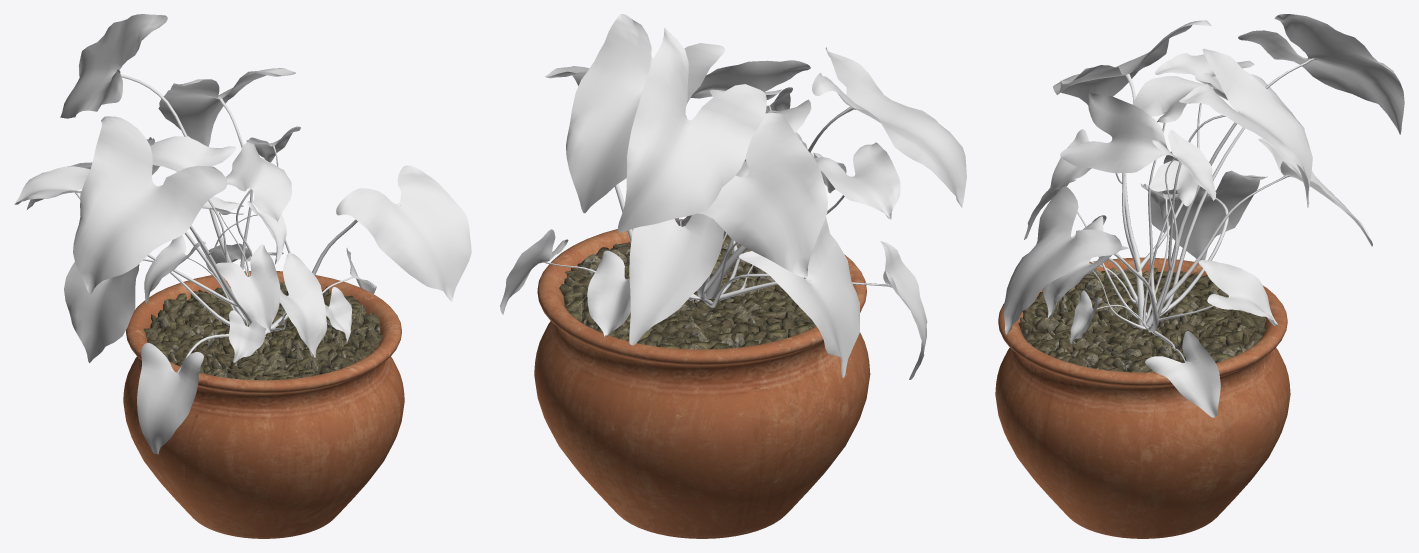
Rendered from potted_plant_02.fbx.
3 renders of one model, left to right at view 1: azimuth 30°, elevation 25°; view 2: azimuth 150°, elevation 25°; view 3: azimuth 270°, elevation 25°, orthographic. The views are drawn at different scales.
Visible parts, largest first — view 1: potted_plant_02_leaves.001, potted_plant_02_pot.001, potted_plant_02_dirt.001; view 2: potted_plant_02_leaves.001, potted_plant_02_pot.001, potted_plant_02_dirt.001; view 3: potted_plant_02_leaves.001, potted_plant_02_pot.001, potted_plant_02_dirt.001.
Boxes of the visible parts, x1,y1,x2,y2 form: potted_plant_02_leaves.001: (14, 14, 471, 454); potted_plant_02_pot.001: (123, 271, 404, 538); potted_plant_02_dirt.001: (143, 282, 383, 380); potted_plant_02_leaves.001: (500, 14, 966, 379); potted_plant_02_pot.001: (534, 219, 870, 538); potted_plant_02_dirt.001: (559, 234, 816, 349); potted_plant_02_leaves.001: (1004, 14, 1404, 417); potted_plant_02_pot.001: (995, 257, 1290, 538); potted_plant_02_dirt.001: (1018, 267, 1266, 372).
Bounding box in the file's own units: 70.12 × 84.12 × 65.74.
